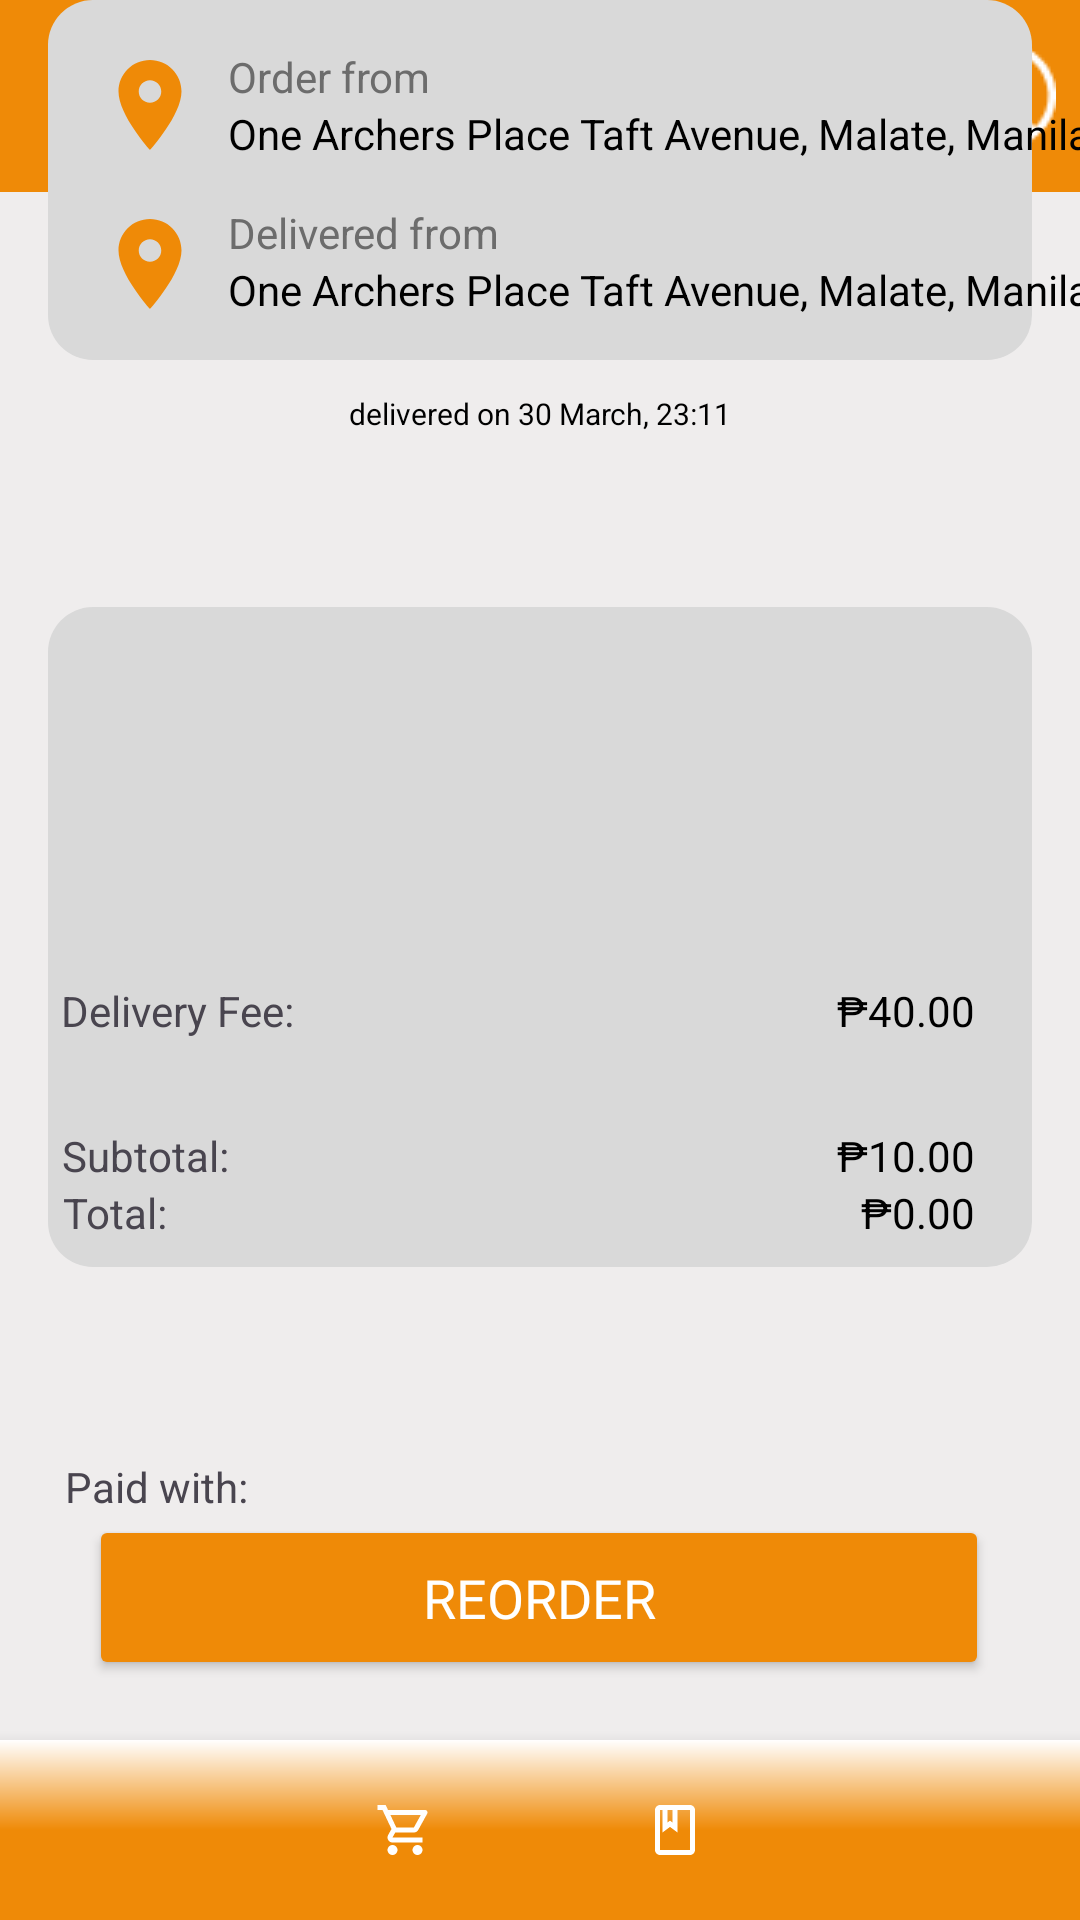

Icons on this 1080 × 1920 Android screen, each with its box as bbox=[x1, y1, x2, y2]:
location: bbox=[118, 60, 182, 150], bbox=[118, 219, 182, 309]
